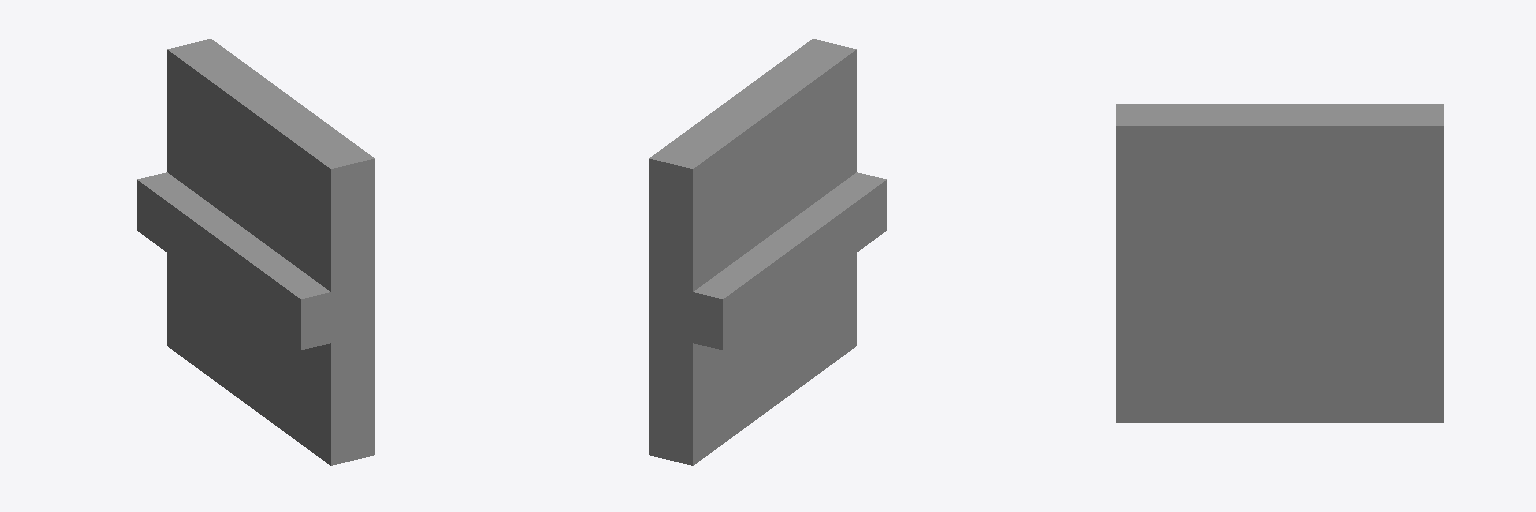
The model's file is redpawnpalette.0.5.6.obj.
3 renders of one model, left to right at view 1: azimuth 30°, elevation 25°; view 2: azimuth 150°, elevation 25°; view 3: azimuth 270°, elevation 25°, orthographic.
Visible parts, largest first — view 1: Cube_Cube.004; view 2: Cube_Cube.004; view 3: Cube_Cube.004.
Boxes of the visible parts, box(x1,y1,x2,y2) form: Cube_Cube.004: box(137, 39, 374, 465); Cube_Cube.004: box(649, 39, 886, 465); Cube_Cube.004: box(1116, 104, 1443, 422).
Bounding box in the file's own units: 0.1579 × 0.604 × 0.604.